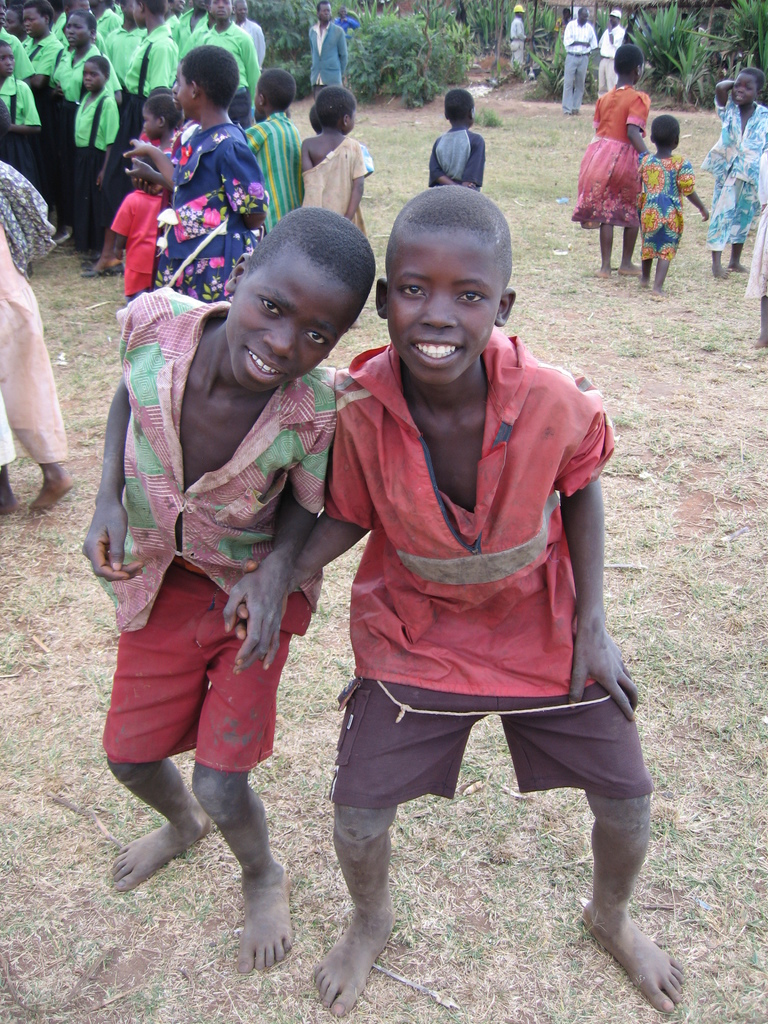Human-face: (0, 0, 351, 192), (223, 248, 361, 395), (379, 230, 496, 377), (730, 69, 756, 109)
